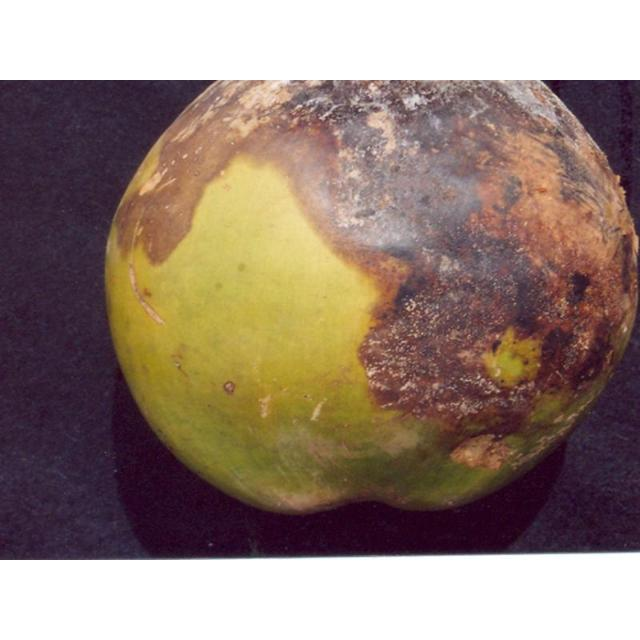damaged: (106, 80, 638, 512)
